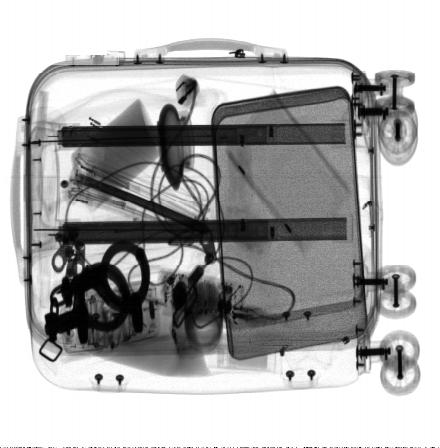HandCuffs: (42, 237, 153, 348)
